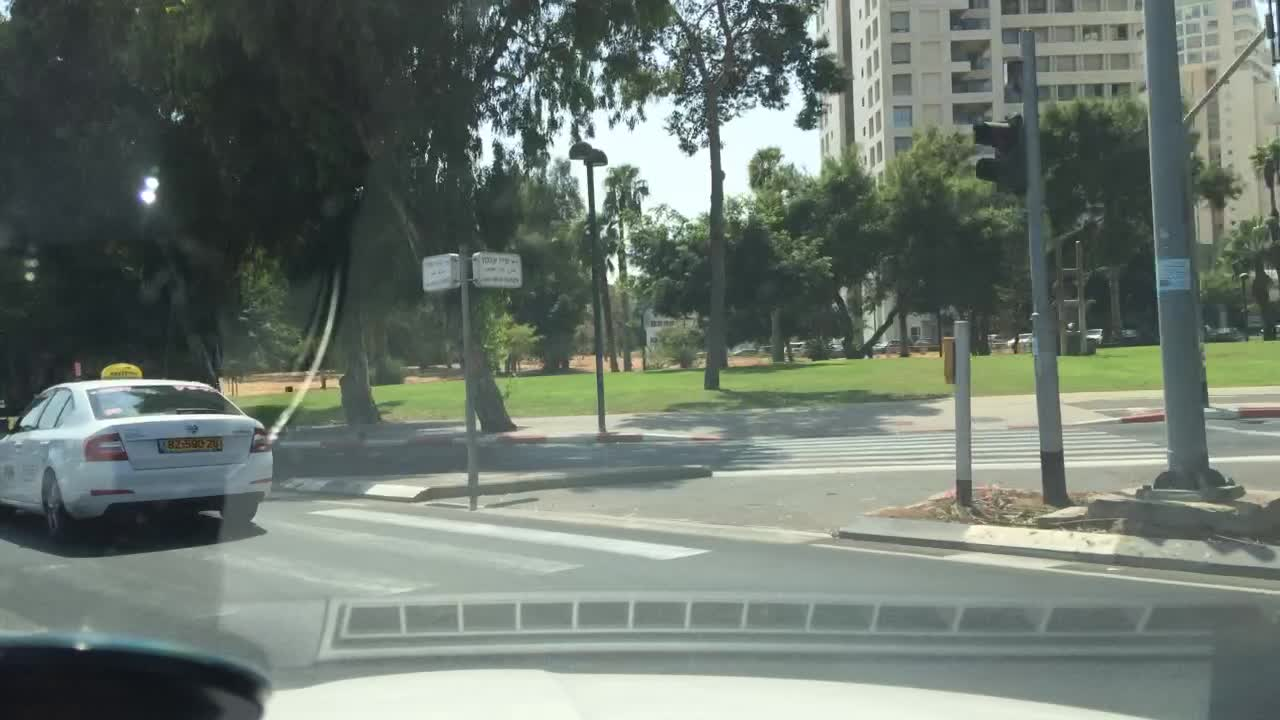car: (2, 377, 276, 541), (1007, 333, 1028, 354), (783, 341, 809, 357), (984, 332, 1002, 346)
traffic sign: (471, 251, 525, 291), (415, 251, 459, 291)
